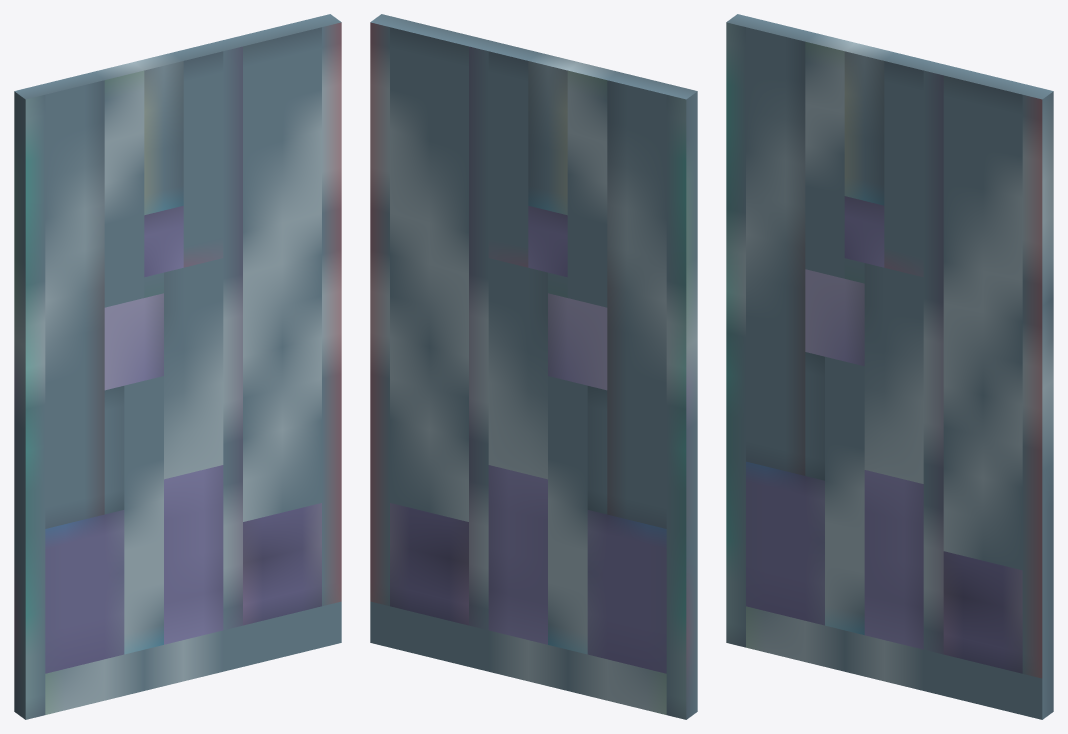
File: Door_Glass_B_00.fbx
3 views of the same model, side by side, from view 1: azimuth 30°, elevation 25°; view 2: azimuth 150°, elevation 25°; view 3: azimuth 330°, elevation 25° (orthographic).
Visible parts, largest first — view 1: Door_Glass_B_00; view 2: Door_Glass_B_00; view 3: Door_Glass_B_00.
Boxes of the visible parts, x1,y1,x2,y2 form: Door_Glass_B_00: (14, 14, 341, 719); Door_Glass_B_00: (370, 14, 697, 719); Door_Glass_B_00: (726, 14, 1053, 719).
Size of the model in its own units: 80 by 150 by 5.
